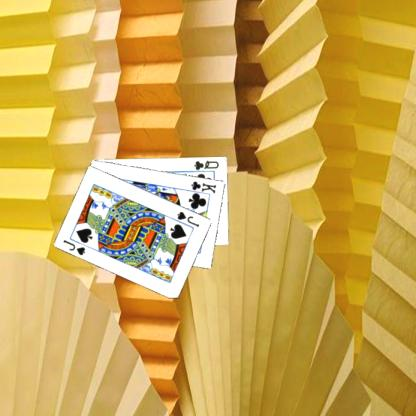JS: (174, 208, 201, 228), (60, 236, 87, 256)
KC: (185, 178, 218, 196)
QC: (191, 158, 220, 170)
